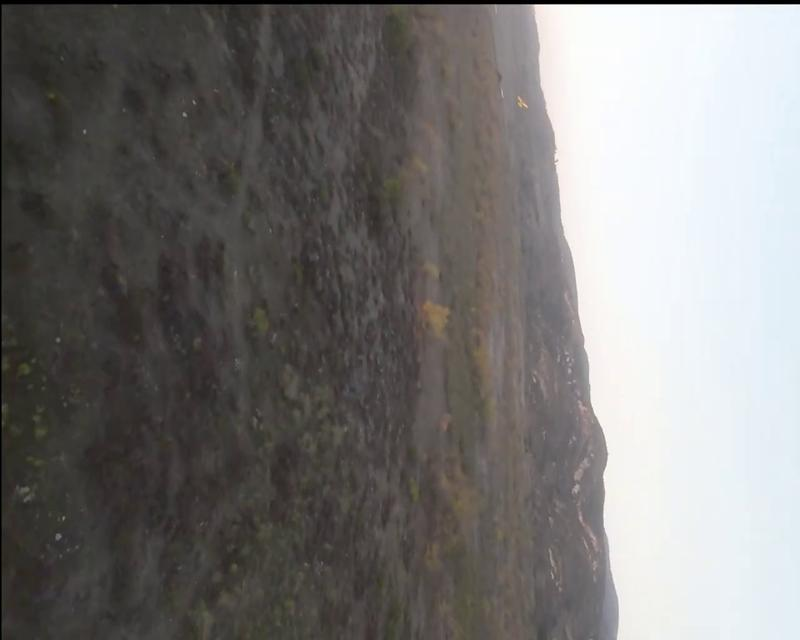UAV: (2, 2, 620, 638), (516, 92, 528, 109)
